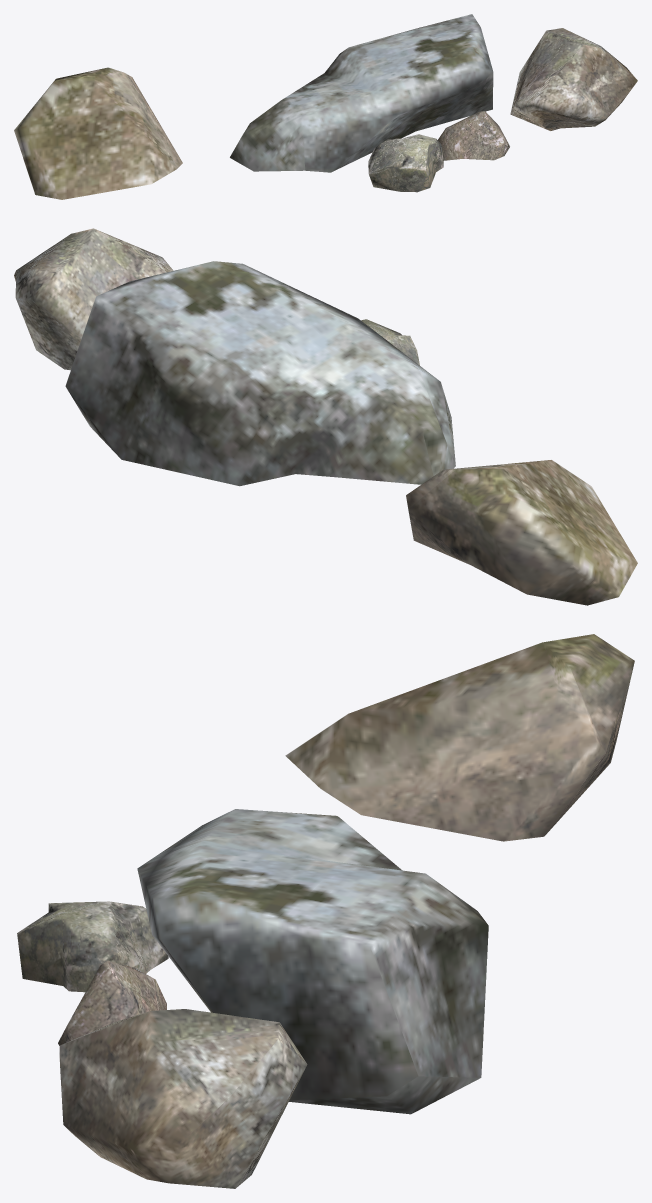
File: proc_stones_03.FBX
The picture shows the model from 3 angles, top to bottom: view 1: azimuth 30°, elevation 25°; view 2: azimuth 150°, elevation 25°; view 3: azimuth 270°, elevation 25°; orthographic projection. The views are drawn at different scales.
Parts seen in each view (by area): view 1: proc_stones_03; view 2: proc_stones_03; view 3: proc_stones_03.
Boxes of the visible parts, left/top/right/bottom form: proc_stones_03: left=14, top=14, right=637, bottom=199; proc_stones_03: left=14, top=228, right=637, bottom=605; proc_stones_03: left=17, top=634, right=634, bottom=1188.
Size of the model in its own units: 0.3154 by 0.1631 by 0.064.
Materials: 1 (1 with a texture image).
